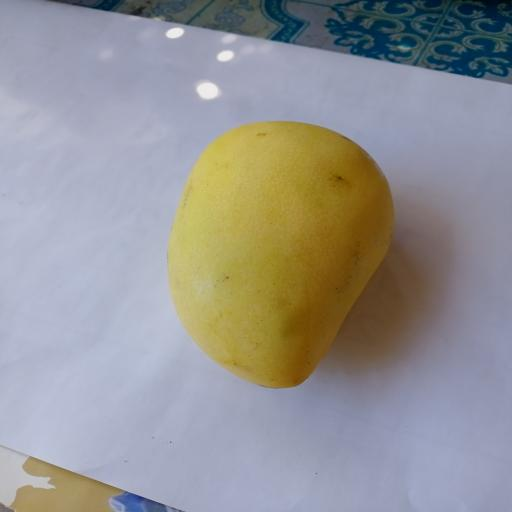mango-ripe: (142, 97, 427, 408)
